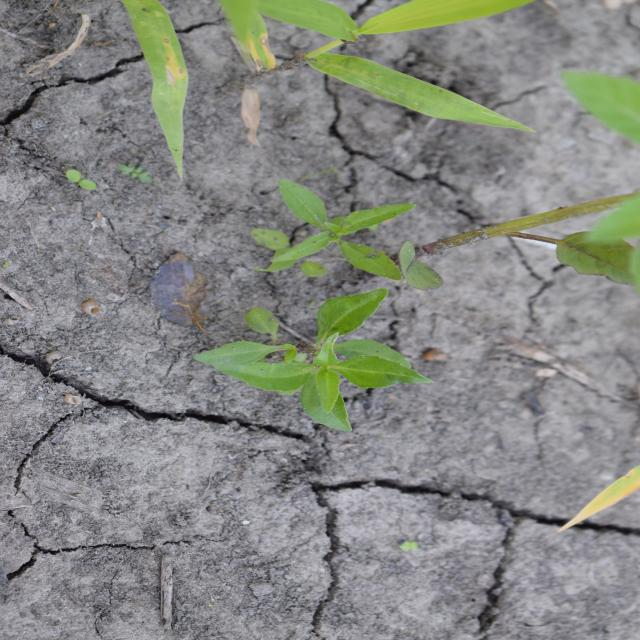Eclipta: (186, 287, 436, 435), (246, 177, 418, 282)
